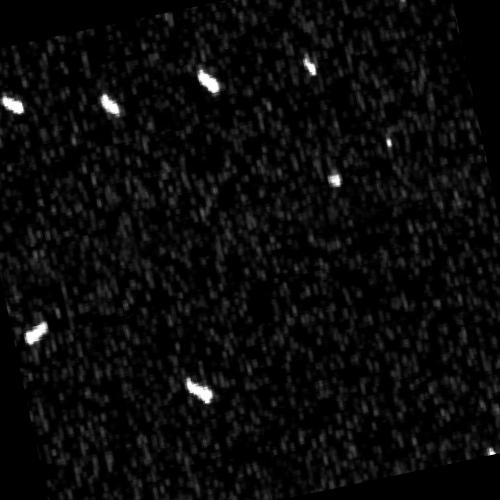ship: (184, 377, 214, 404), (195, 65, 221, 95), (24, 320, 49, 346), (0, 94, 25, 117), (99, 92, 121, 117), (302, 53, 318, 77), (328, 173, 343, 189), (385, 136, 393, 148)
